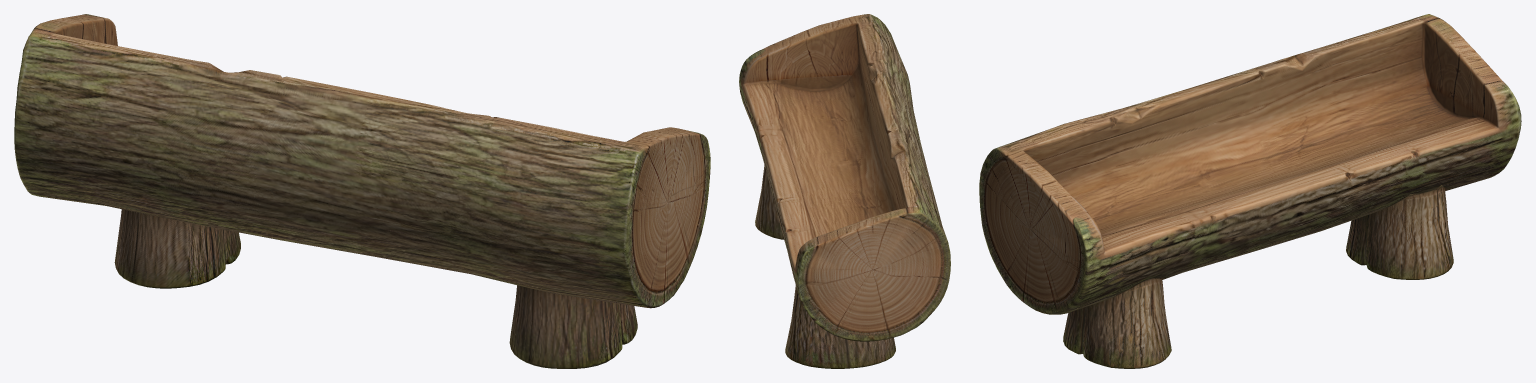
File: SM_Env_SherwoodLogBench.fbx
The picture shows the model from 3 angles, left to right: view 1: azimuth 30°, elevation 25°; view 2: azimuth 150°, elevation 25°; view 3: azimuth 270°, elevation 25°; orthographic projection. The views are drawn at different scales.
Parts seen in each view (by area): view 1: SM_Env_SherwoodLogBench; view 2: SM_Env_SherwoodLogBench; view 3: SM_Env_SherwoodLogBench.
Boxes of the visible parts, bbox=[...] form: SM_Env_SherwoodLogBench: bbox=[14, 14, 710, 368]; SM_Env_SherwoodLogBench: bbox=[739, 14, 950, 368]; SM_Env_SherwoodLogBench: bbox=[979, 14, 1521, 368].
Size of the model in its own units: 31.59 by 37.31 by 15.
Materials: 1 (1 with a texture image).
